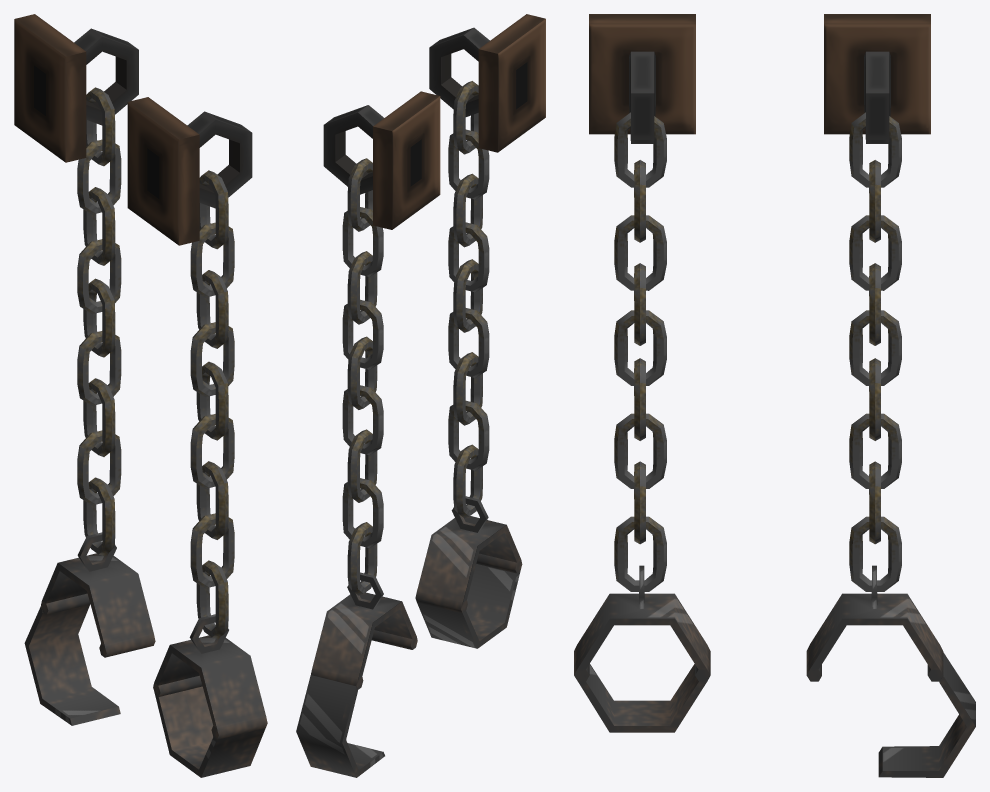
File: Chains_with Texture.FBX
The picture shows the model from 3 angles, left to right: view 1: azimuth 30°, elevation 25°; view 2: azimuth 150°, elevation 25°; view 3: azimuth 270°, elevation 25°; orthographic projection. The views are drawn at different scales.
Parts seen in each view (by area): view 1: Tube003, Tube001, Box001, Box002, Chain008, Chain017, Chain014, Chain016, Chain007, Chain005, Chain012, Chain006 (+10 smaller); view 2: Tube003, Tube001, Box002, Box001, Chain017, Chain014, Chain016, Chain007, Chain008, Chain005, Chain003, Chain012 (+10 smaller); view 3: Box001, Box002, Tube003, Tube001, Chain008, Chain017, Chain002, Chain011, Chain004, Chain006, Chain013, Chain015 (+10 smaller).
Boxes of the visible parts, bbox=[...] form: Tube003: bbox=[24, 532, 155, 725]; Tube001: bbox=[153, 614, 267, 777]; Box001: bbox=[127, 97, 252, 245]; Box002: bbox=[14, 14, 138, 162]; Chain008: bbox=[196, 560, 228, 639]; Chain017: bbox=[83, 477, 115, 556]; Chain014: bbox=[77, 331, 121, 405]; Chain016: bbox=[77, 430, 121, 505]; Chain007: bbox=[190, 513, 234, 588]; Chain005: bbox=[190, 414, 234, 488]; Chain012: bbox=[77, 239, 121, 314]; Chain006: bbox=[196, 461, 228, 539]; Tube003: bbox=[296, 572, 417, 777]; Tube001: bbox=[415, 496, 522, 648]; Box002: bbox=[323, 91, 440, 229]; Box001: bbox=[429, 14, 545, 152]; Chain017: bbox=[347, 522, 377, 595]; Chain014: bbox=[342, 385, 383, 455]; Chain016: bbox=[342, 478, 383, 547]; Chain007: bbox=[448, 400, 489, 470]; Chain008: bbox=[453, 444, 482, 518]; Chain005: bbox=[448, 308, 489, 377]; Chain003: bbox=[448, 222, 489, 292]; Chain012: bbox=[342, 299, 383, 369]; Box001: bbox=[589, 14, 695, 143]; Box002: bbox=[824, 14, 930, 143]; Tube003: bbox=[806, 565, 975, 777]; Tube001: bbox=[574, 565, 710, 732]; Chain008: bbox=[614, 516, 666, 591]; Chain017: bbox=[849, 516, 901, 591]; Chain002: bbox=[614, 215, 666, 290]; Chain011: bbox=[849, 215, 901, 290]; Chain004: bbox=[614, 310, 666, 385]; Chain006: bbox=[614, 413, 666, 488]; Chain013: bbox=[849, 310, 901, 385]; Chain015: bbox=[849, 413, 901, 488].
Bounding box in the file's own units: 4.93 × 35.07 × 17.67.
